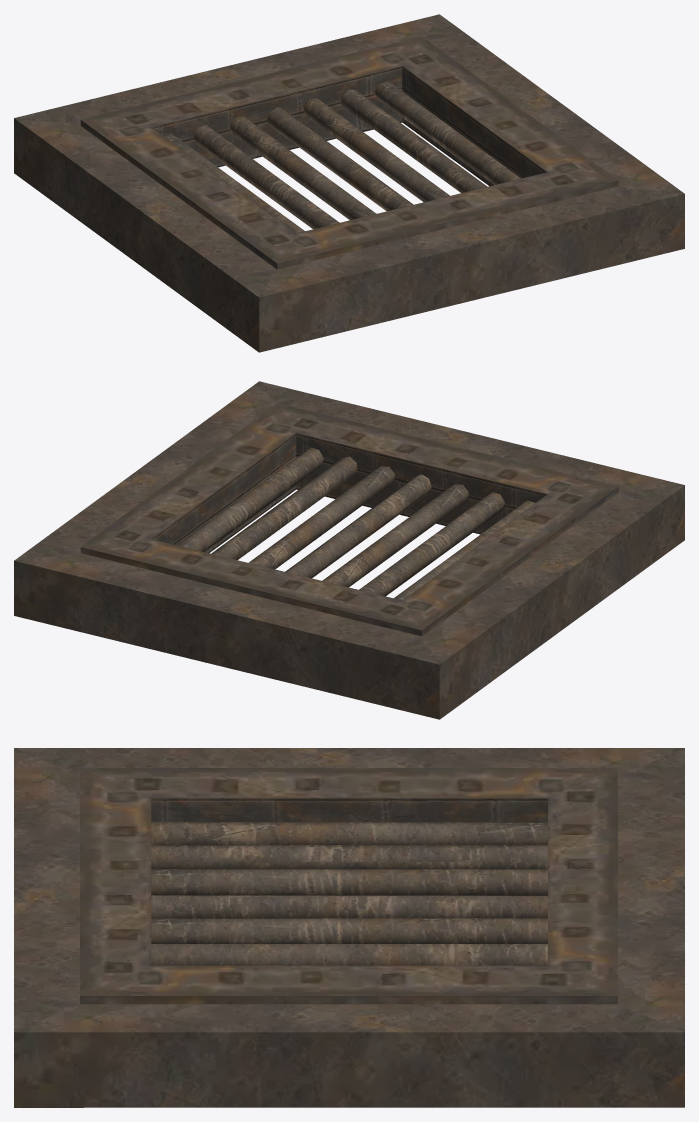
3 renders of one model, top to bottom at view 1: azimuth 30°, elevation 25°; view 2: azimuth 150°, elevation 25°; view 3: azimuth 270°, elevation 25°, orthographic. The views are drawn at different scales.
Parts seen in each view (by area): view 1: SM_BB_T3_Extended_Floor_Grate_Med_LOD0; view 2: SM_BB_T3_Extended_Floor_Grate_Med_LOD0; view 3: SM_BB_T3_Extended_Floor_Grate_Med_LOD0.
Boxes of the visible parts, left/top/right/bottom form: SM_BB_T3_Extended_Floor_Grate_Med_LOD0: left=14, top=14, right=684, bottom=352; SM_BB_T3_Extended_Floor_Grate_Med_LOD0: left=14, top=381, right=684, bottom=719; SM_BB_T3_Extended_Floor_Grate_Med_LOD0: left=14, top=748, right=684, bottom=1107.
Bounding box in the file's own units: 1.88 × 0.2576 × 1.87.
Materials: 2 (2 with a texture image).
